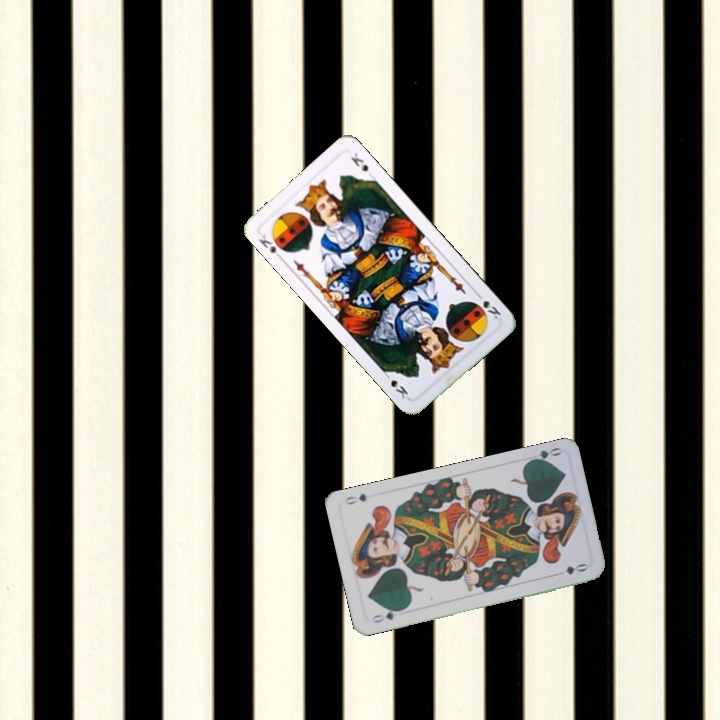GO: (524, 443, 563, 466), (368, 605, 406, 626)
SK: (472, 288, 504, 322), (254, 231, 286, 263)
